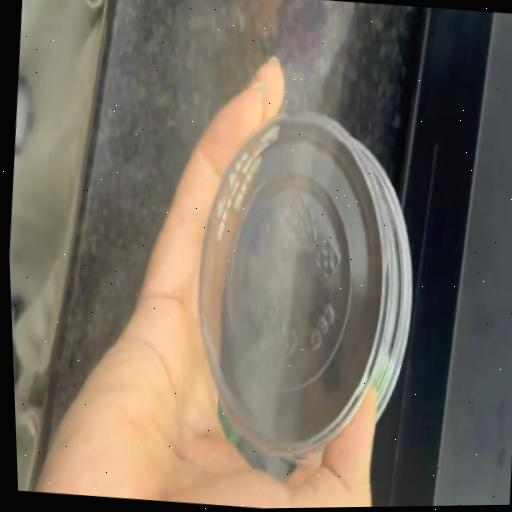ly_nhua: (199, 114, 411, 464)
